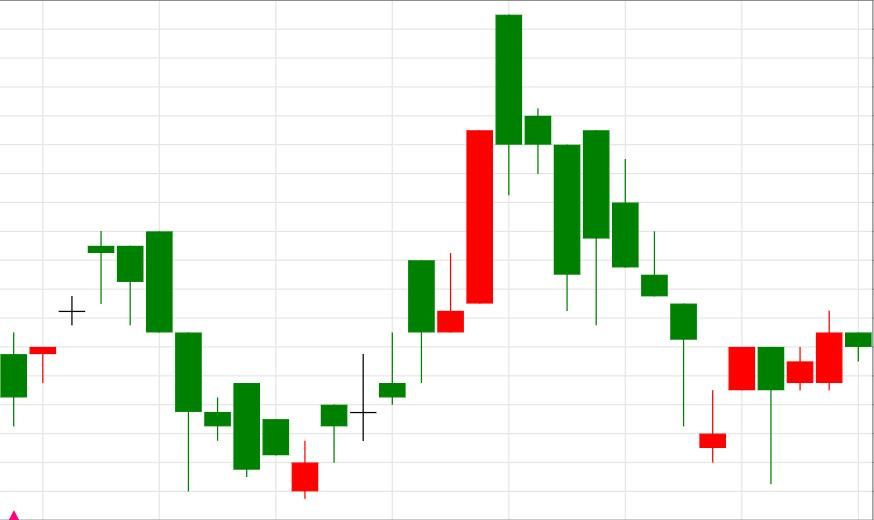hammer_rise: (495, 15, 697, 426)
